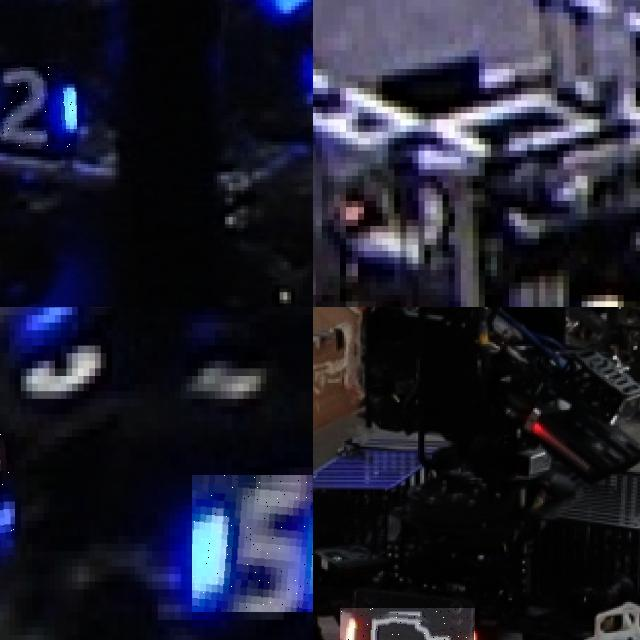B2: (0, 62, 76, 149)
B5: (192, 475, 313, 612)
Rs: (339, 607, 475, 640)
